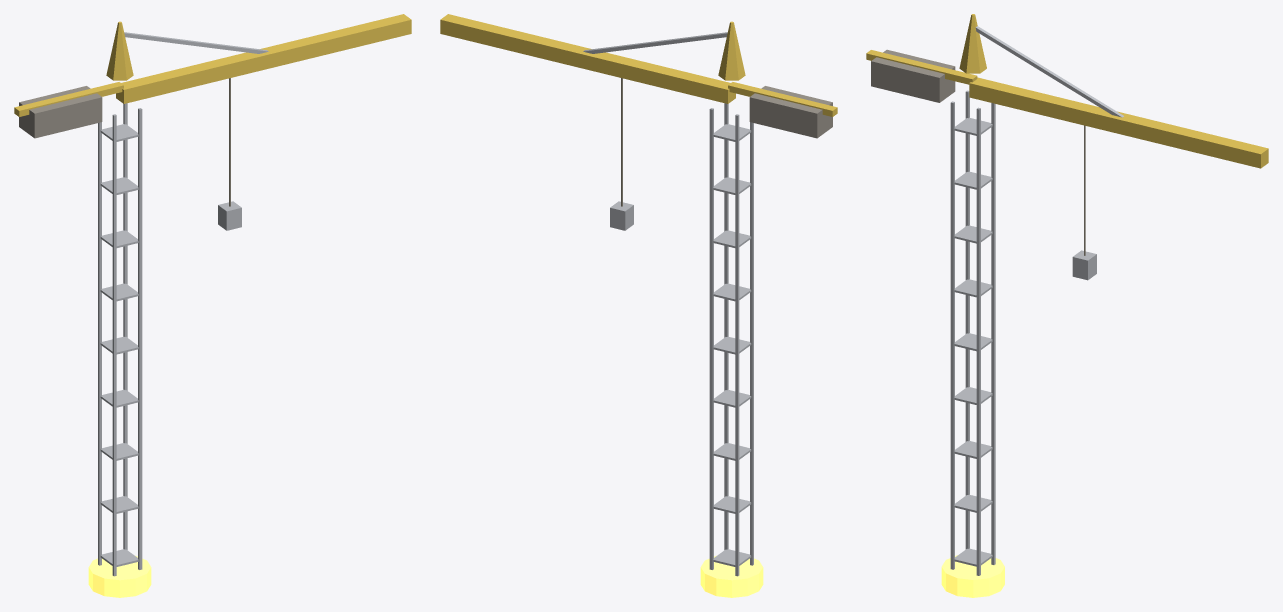
The model's file is 10_tower_crane.glb.
3 renders of one model, left to right at view 1: azimuth 30°, elevation 25°; view 2: azimuth 150°, elevation 25°; view 3: azimuth 330°, elevation 25°, orthographic.
Visible parts, largest first — view 1: 10_tower_crane_root_steel_nocol, tower_crane_jib, tower_crane_counterweight, tower_crane_base_signal, 10_tower_crane_craneslew_crane_nocol, 10_tower_crane_craneslew_steel_nocol, tower_crane_hook; view 2: 10_tower_crane_root_steel_nocol, tower_crane_jib, tower_crane_counterweight, tower_crane_base_signal, 10_tower_crane_craneslew_crane_nocol, 10_tower_crane_craneslew_steel_nocol, tower_crane_hook; view 3: 10_tower_crane_root_steel_nocol, tower_crane_jib, tower_crane_counterweight, tower_crane_base_signal, 10_tower_crane_craneslew_crane_nocol, 10_tower_crane_craneslew_steel_nocol, tower_crane_hook.
Boxes of the visible parts, x1=… form: 10_tower_crane_root_steel_nocol: x1=98, y1=103, x2=142, y2=576; tower_crane_jib: x1=116, y1=14, x2=411, y2=103; tower_crane_counterweight: x1=19, y1=86, x2=102, y2=138; tower_crane_base_signal: x1=88, y1=555, x2=151, y2=597; 10_tower_crane_craneslew_crane_nocol: x1=14, y1=21, x2=133, y2=116; 10_tower_crane_craneslew_steel_nocol: x1=124, y1=32, x2=268, y2=53; tower_crane_hook: x1=218, y1=201, x2=241, y2=230; 10_tower_crane_root_steel_nocol: x1=709, y1=103, x2=753, y2=576; tower_crane_jib: x1=440, y1=14, x2=735, y2=103; tower_crane_counterweight: x1=749, y1=86, x2=832, y2=138; tower_crane_base_signal: x1=700, y1=555, x2=763, y2=597; 10_tower_crane_craneslew_crane_nocol: x1=718, y1=21, x2=837, y2=116; 10_tower_crane_craneslew_steel_nocol: x1=583, y1=32, x2=727, y2=53; tower_crane_hook: x1=610, y1=201, x2=633, y2=230; 10_tower_crane_root_steel_nocol: x1=950, y1=90, x2=995, y2=575; tower_crane_jib: x1=969, y1=77, x2=1268, y2=168; tower_crane_counterweight: x1=871, y1=49, x2=955, y2=102; tower_crane_base_signal: x1=941, y1=555, x2=1004, y2=597; 10_tower_crane_craneslew_crane_nocol: x1=866, y1=14, x2=986, y2=84; 10_tower_crane_craneslew_steel_nocol: x1=975, y1=26, x2=1123, y2=117; tower_crane_hook: x1=1072, y1=250, x2=1096, y2=280.
Bounding box in the file's own units: 46.2 × 63.5 × 6.4.
